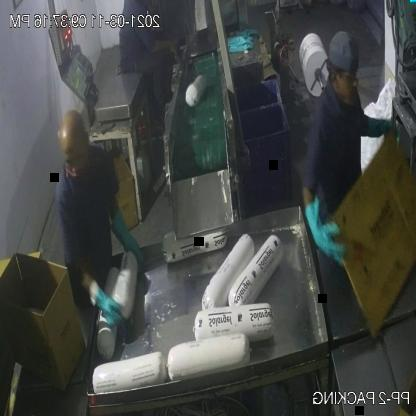glove: (296, 193, 351, 263), (108, 212, 150, 268), (93, 276, 125, 323)
